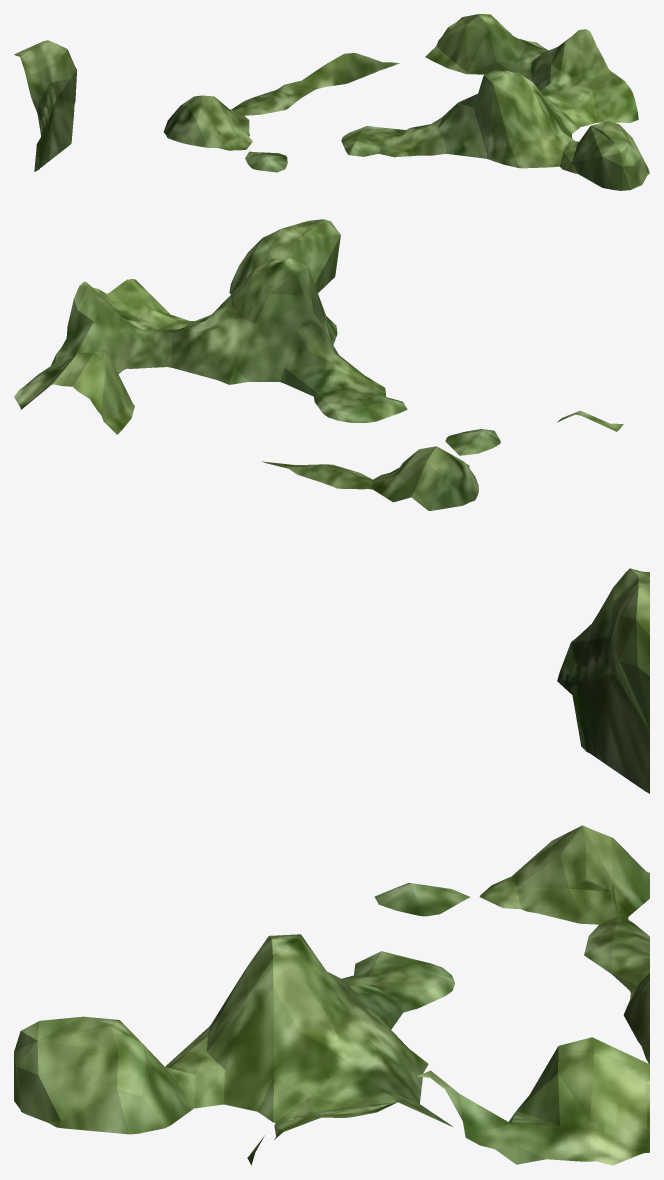
3 views of the same model, one above another, from view 1: azimuth 30°, elevation 25°; view 2: azimuth 150°, elevation 25°; view 3: azimuth 270°, elevation 25° (orthographic). The views are drawn at different scales.
Bounding box in the file's own units: 2.95 × 0.6107 × 1.89.
Materials: 1 (1 with a texture image).
